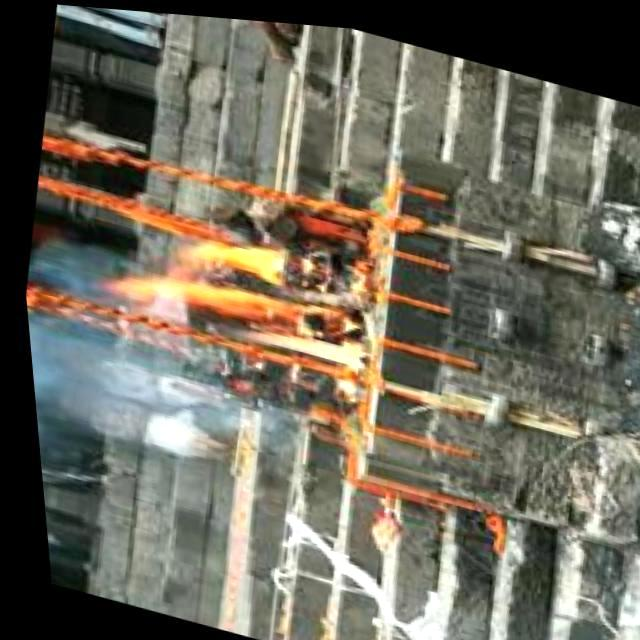fire: (116, 208, 376, 372)
